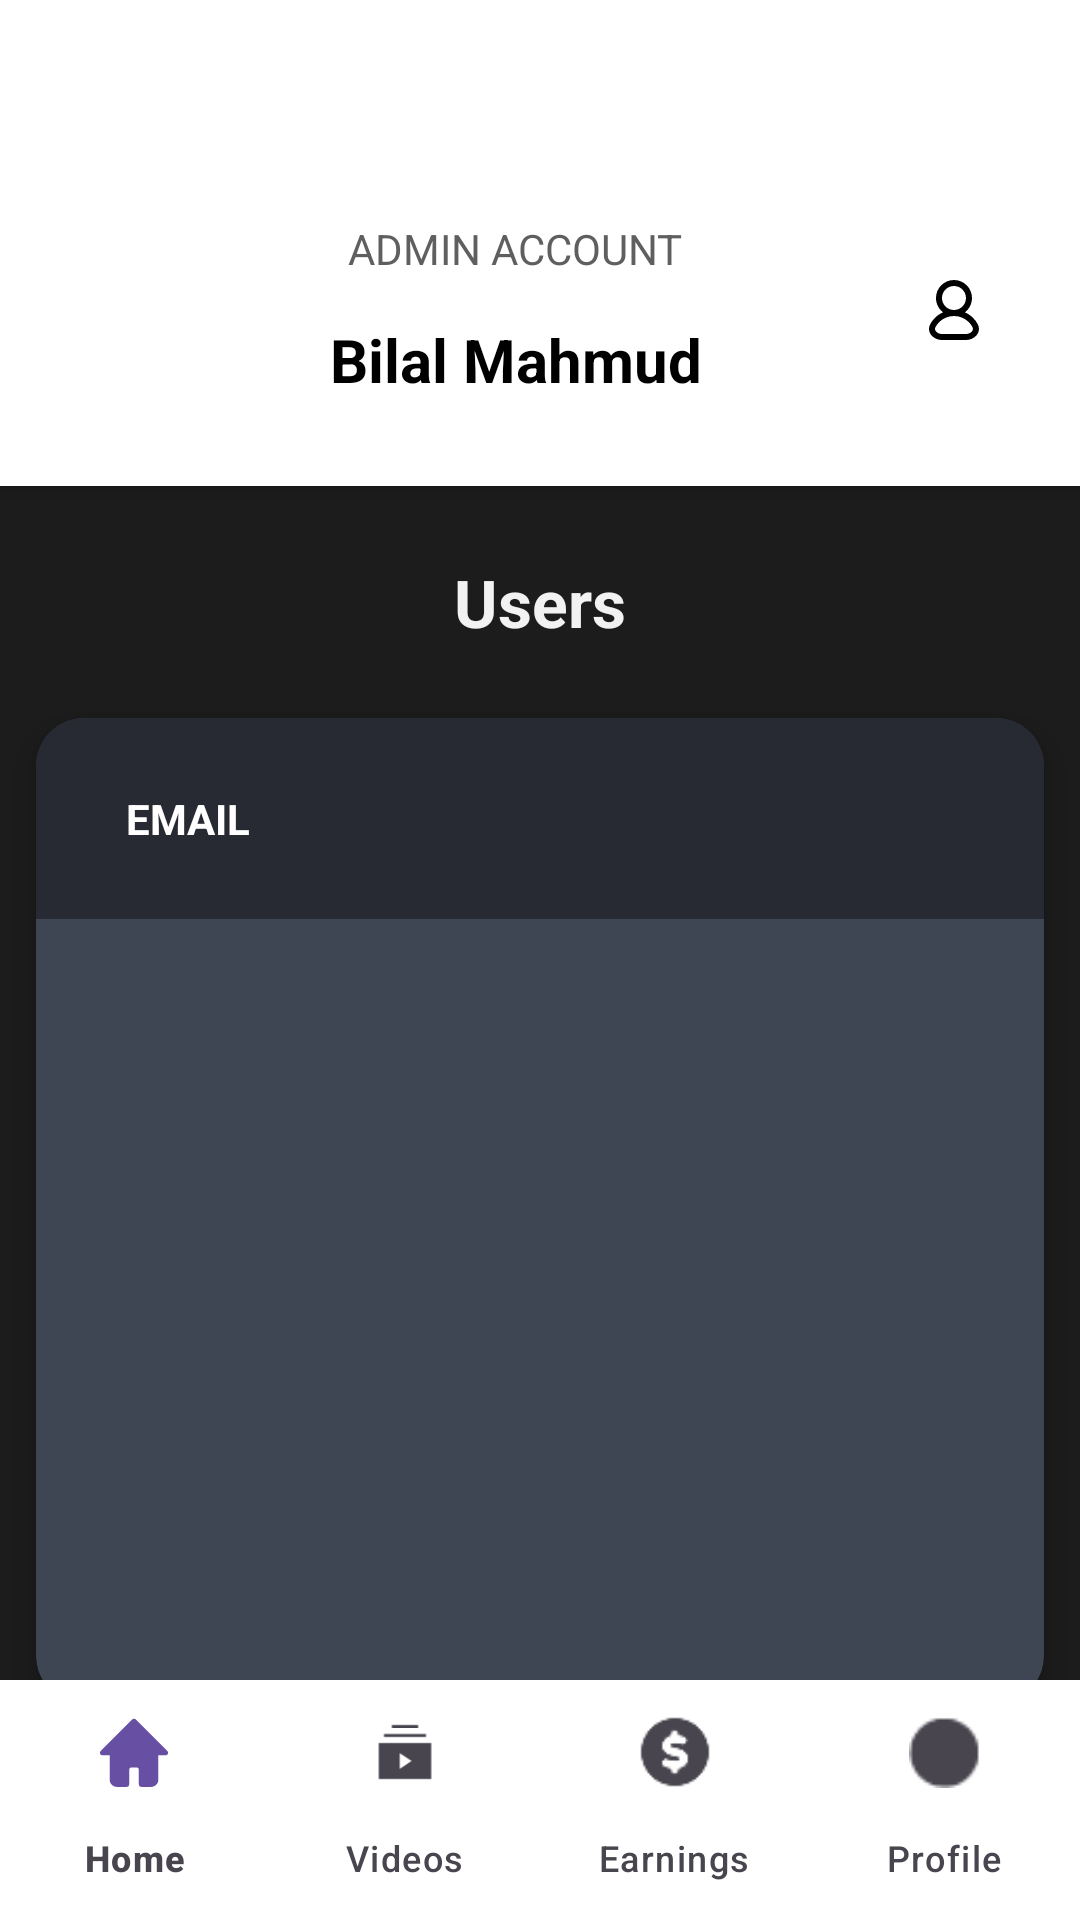

Named icons in this screenshot (1080×1920) and their centers, point (x, y):
person: point (954, 310)
